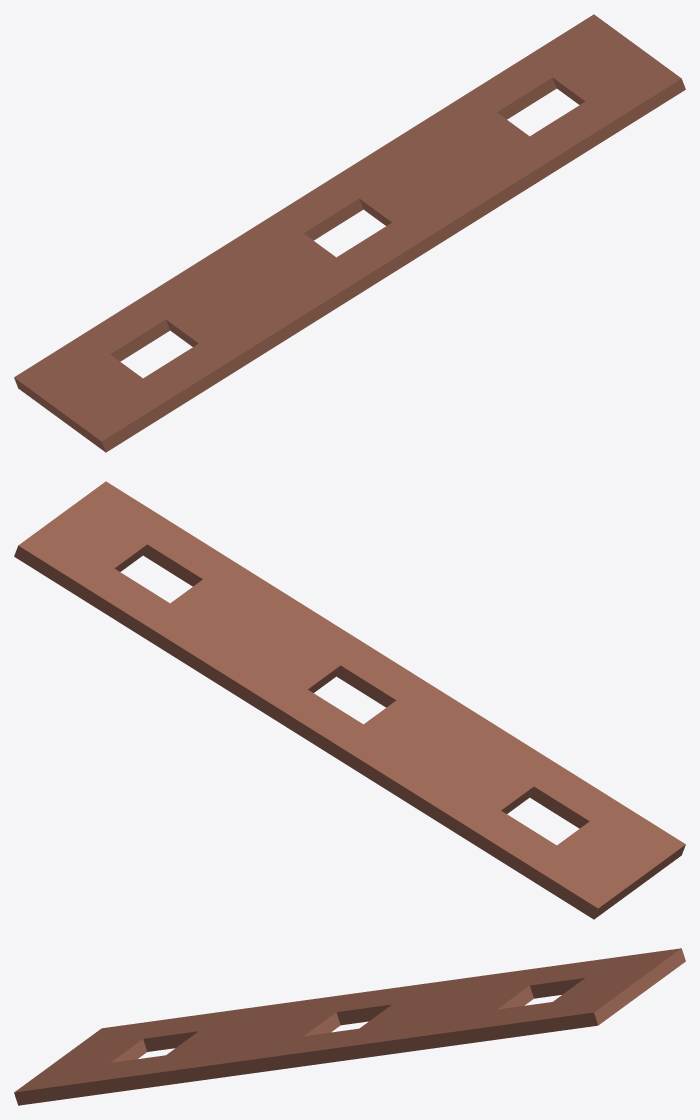
File: SARM_SAR_Building_URB_003_Wall_S_01.glb
3 views of the same model, one above another, from view 1: azimuth 30°, elevation 25°; view 2: azimuth 150°, elevation 25°; view 3: azimuth 330°, elevation 25° (orthographic).
Visible parts, largest first — view 1: SAR_Building_URB_003_Wall_S_01.001; view 2: SAR_Building_URB_003_Wall_S_01.001; view 3: SAR_Building_URB_003_Wall_S_01.001.
Boxes of the visible parts, x1,y1,x2,y2 form: SAR_Building_URB_003_Wall_S_01.001: (14,14,685,452); SAR_Building_URB_003_Wall_S_01.001: (14,481,685,919); SAR_Building_URB_003_Wall_S_01.001: (14,948,685,1105).
Size of the model in its own units: 12.3 by 4.7 by 3.2.
